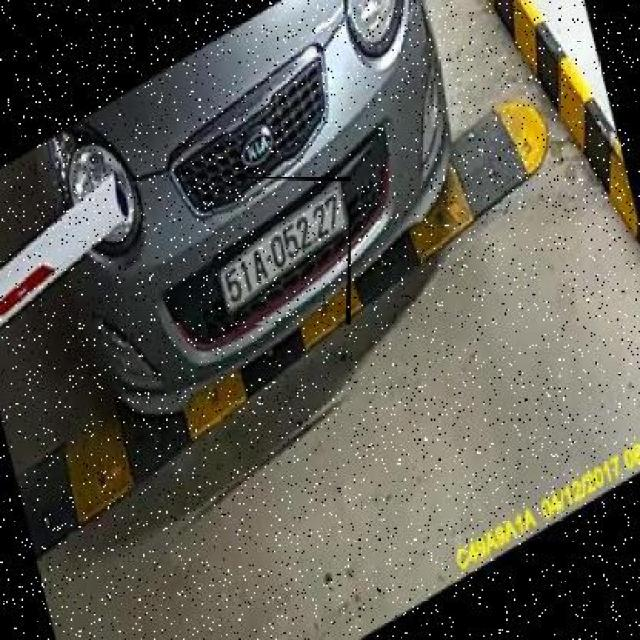number_plate: (212, 178, 351, 325)
